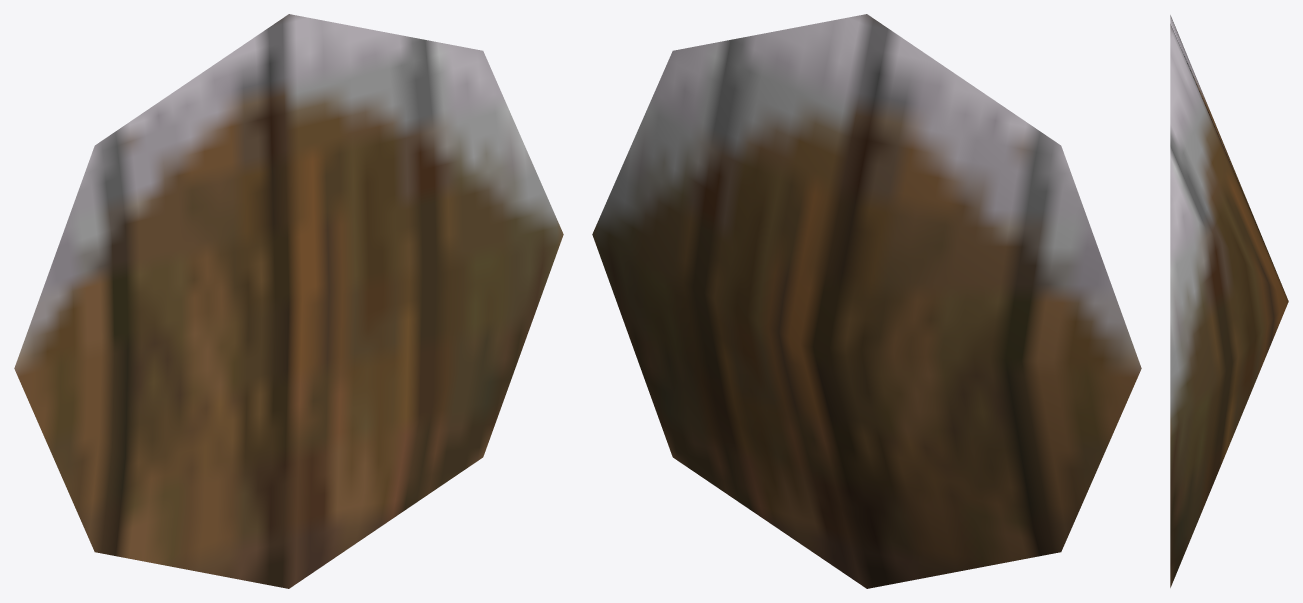
File: attachments_n_shield_large_copper.glb
3 renders of one model, left to right at view 1: azimuth 30°, elevation 25°; view 2: azimuth 150°, elevation 25°; view 3: azimuth 270°, elevation 25°, orthographic. The views are drawn at different scales.
Visible parts, largest first — view 1: MeshRoot; view 2: MeshRoot; view 3: MeshRoot.
Boxes of the visible parts, x1,y1,x2,y2 form: MeshRoot: [14, 14, 563, 588]; MeshRoot: [592, 14, 1141, 588]; MeshRoot: [1170, 15, 1288, 587].
Size of the model in its own units: 0.6602 by 0.6602 by 0.1279.
1 material, 1 textured.
